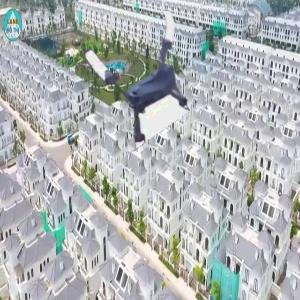drone: (92, 13, 208, 129)
